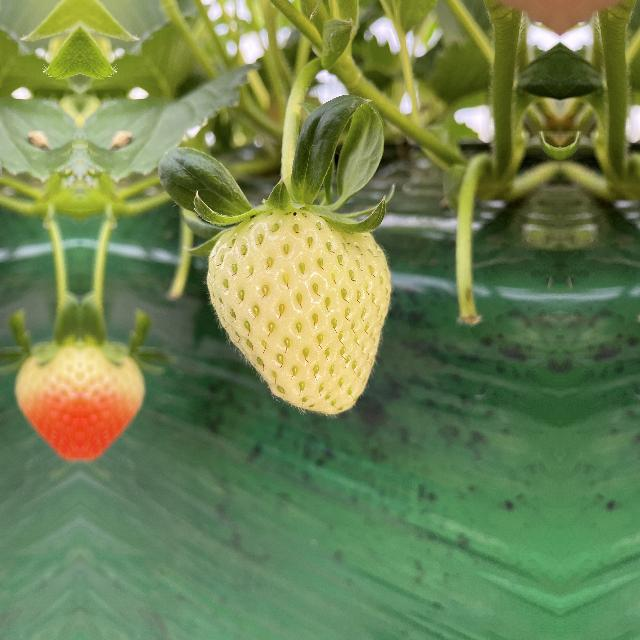Health_25: (200, 203, 398, 414)
